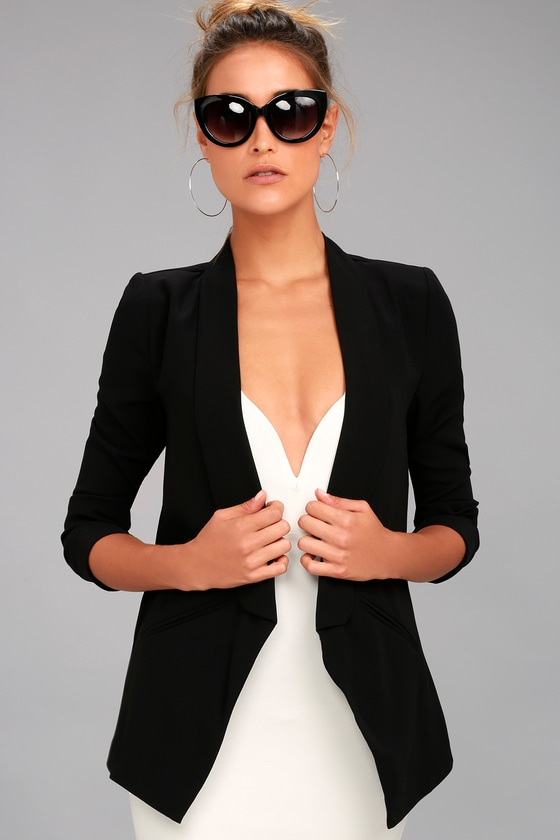F_W_suit jacket: (67, 240, 478, 805)
